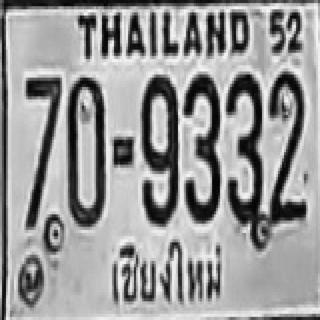P11: (96, 232, 233, 310)
